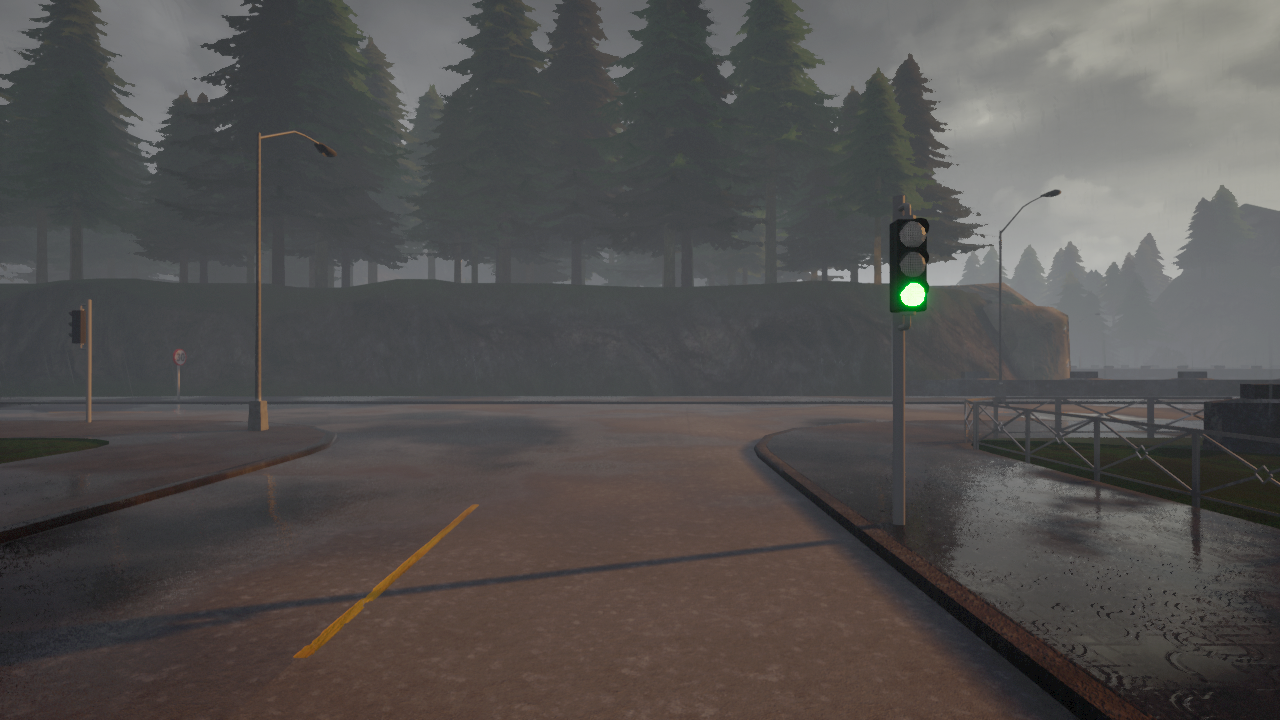green: (891, 218, 930, 313)
